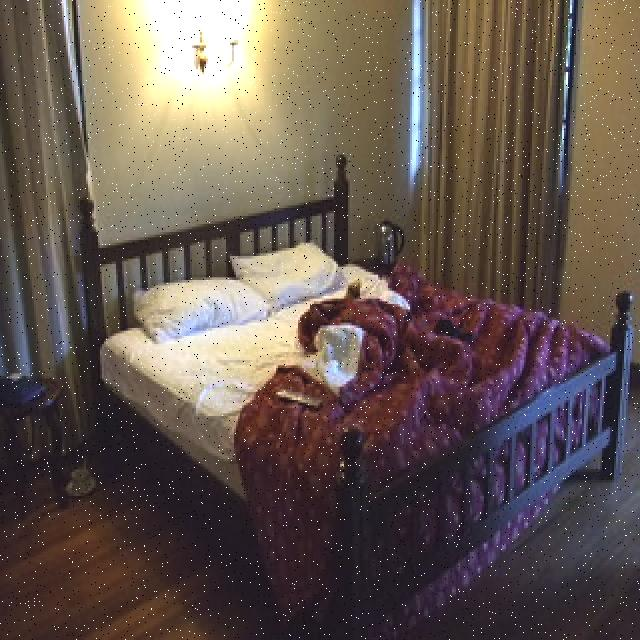bed: (77, 237, 623, 535)
